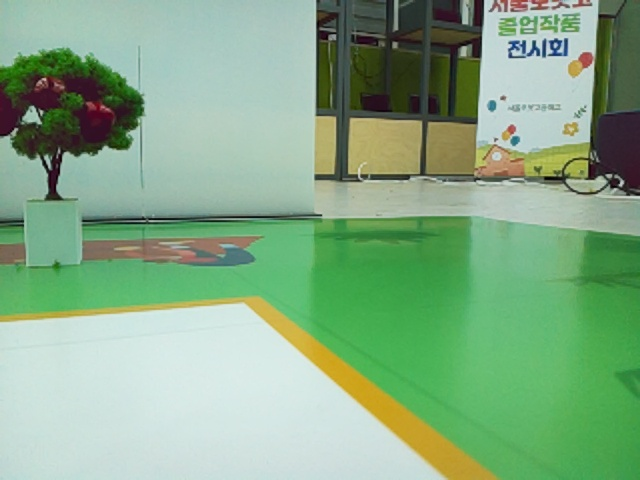apple: (579, 53, 592, 67)
